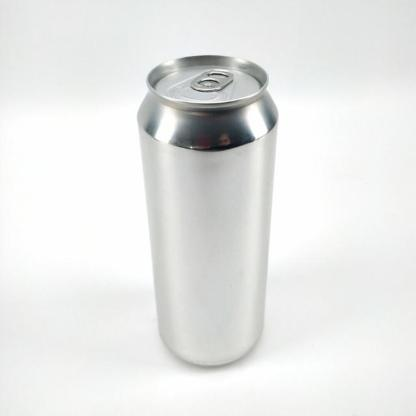Can: (131, 49, 295, 374)
